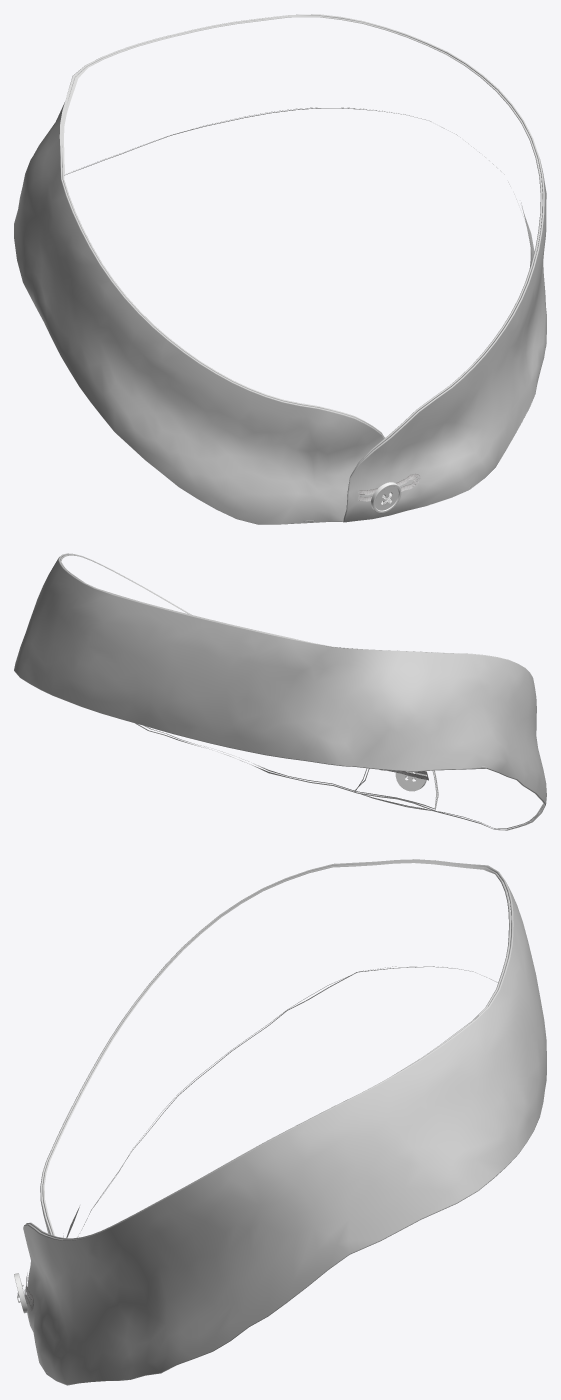
The model's file is Mandarin_Collar.glb.
The picture shows the model from 3 angles, top to bottom: view 1: azimuth 30°, elevation 25°; view 2: azimuth 150°, elevation 25°; view 3: azimuth 270°, elevation 25°; orthographic projection. The views are drawn at different scales.
Visible parts, largest first — view 1: mandarine_collar, MatShape_857973_Node001; view 2: mandarine_collar, MatShape_857973_Node001; view 3: mandarine_collar.
Boxes of the visible parts, x1,y1,x2,y2 form: mandarine_collar: (14, 14, 546, 524); MatShape_857973_Node001: (371, 482, 401, 513); mandarine_collar: (14, 553, 546, 830); MatShape_857973_Node001: (395, 771, 427, 791); mandarine_collar: (23, 859, 546, 1385).
Size of the model in its own units: 14.17 by 9.44 by 11.42.
Materials: 4 (1 with a texture image).
